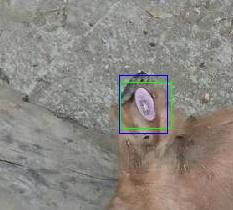text: (120, 82, 171, 128)
